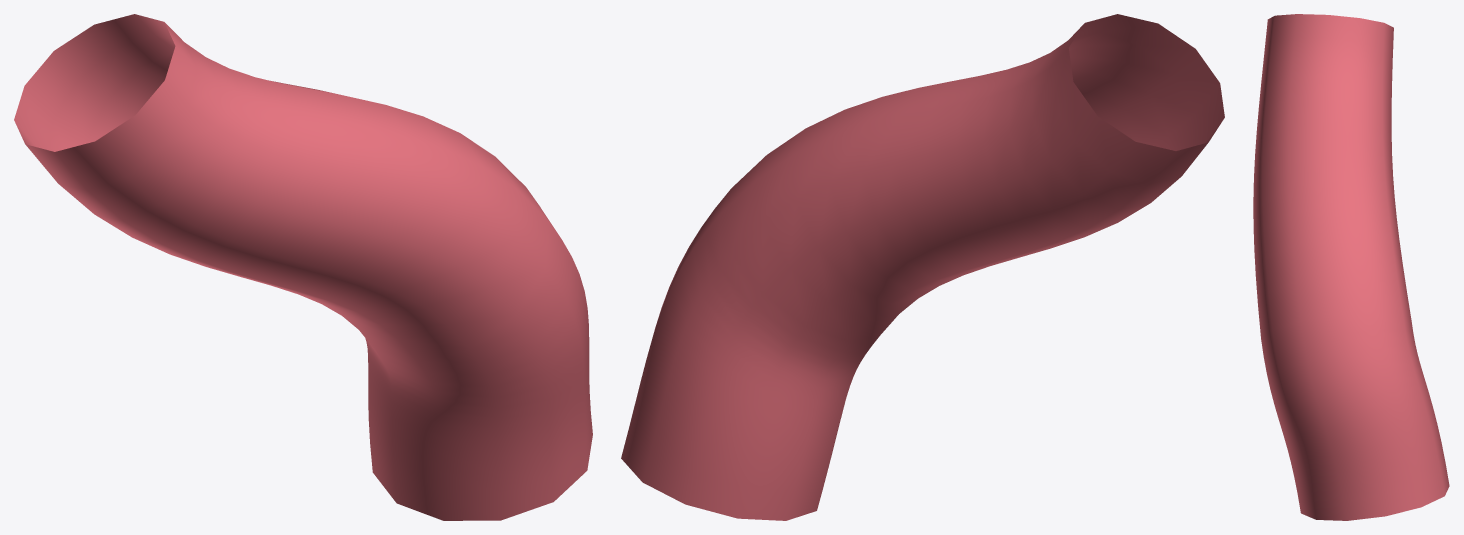
The picture shows the model from 3 angles, left to right: view 1: azimuth 30°, elevation 25°; view 2: azimuth 150°, elevation 25°; view 3: azimuth 270°, elevation 25°; orthographic projection. The views are drawn at different scales.
Visible parts, largest first — view 1: ZA_27adf164c9a3ff7d; view 2: ZA_27adf164c9a3ff7d; view 3: ZA_27adf164c9a3ff7d.
Boxes of the visible parts, x1,y1,x2,y2 form: ZA_27adf164c9a3ff7d: (14,14,592,520); ZA_27adf164c9a3ff7d: (621,14,1224,520); ZA_27adf164c9a3ff7d: (1253,14,1449,520).
Size of the model in its own units: 0.036 by 0.0335 by 0.0155.
